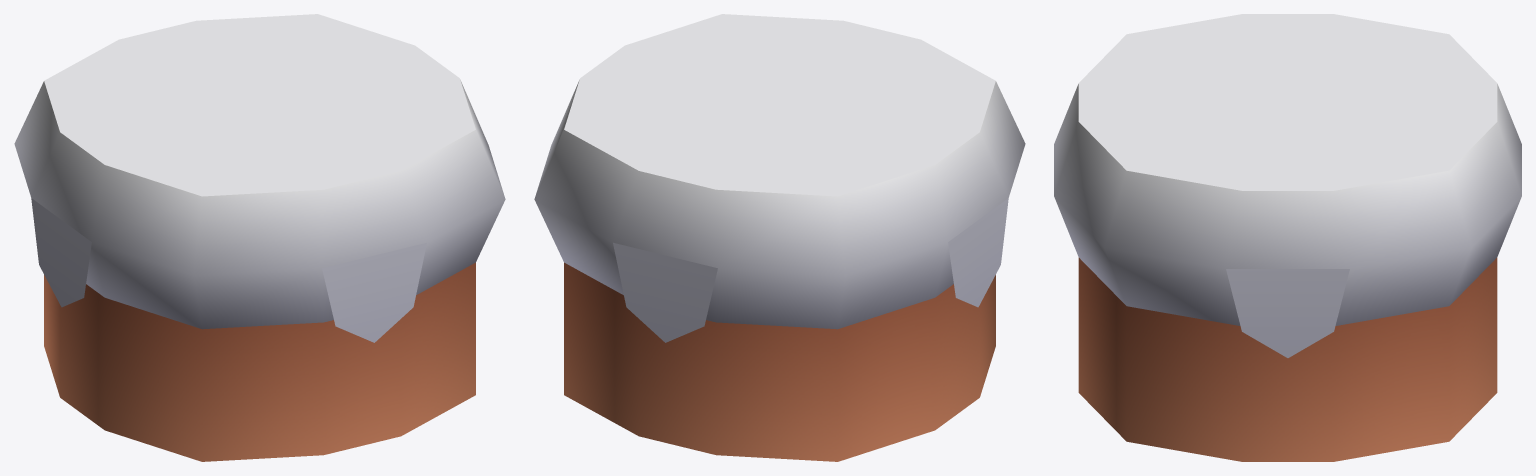
File: block-snow-overhang-low-narrow.glb
3 renders of one model, left to right at view 1: azimuth 30°, elevation 25°; view 2: azimuth 150°, elevation 25°; view 3: azimuth 270°, elevation 25°, orthographic. The views are drawn at different scales.
Visible parts, largest first — view 1: block-snow-overhang-low-narrow; view 2: block-snow-overhang-low-narrow; view 3: block-snow-overhang-low-narrow.
Part boxes in pixels (x1=…): block-snow-overhang-low-narrow: x1=14, y1=14, x2=505, y2=461; block-snow-overhang-low-narrow: x1=534, y1=14, x2=1025, y2=461; block-snow-overhang-low-narrow: x1=1054, y1=14, x2=1521, y2=461.
Size of the model in its own units: 0.7821 by 0.5 by 0.7821.
Materials: 1 (1 with a texture image).
